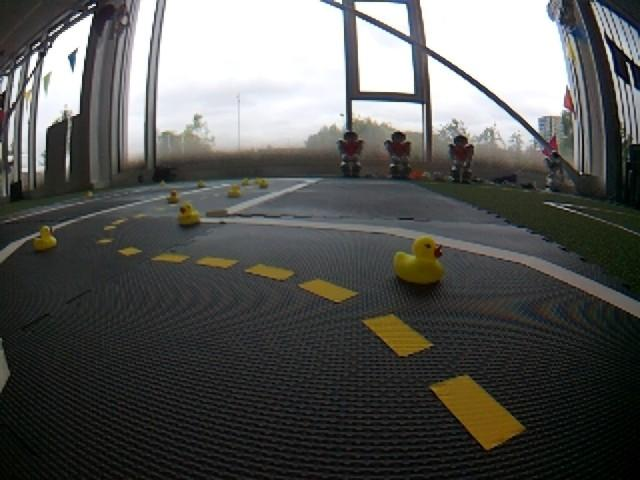Duckies: (395, 237, 443, 283), (177, 203, 203, 224), (34, 226, 57, 249), (167, 190, 180, 202), (228, 185, 241, 197), (260, 179, 268, 189), (241, 178, 249, 185), (254, 176, 261, 184), (87, 190, 93, 198), (198, 180, 205, 186), (160, 180, 165, 186)
